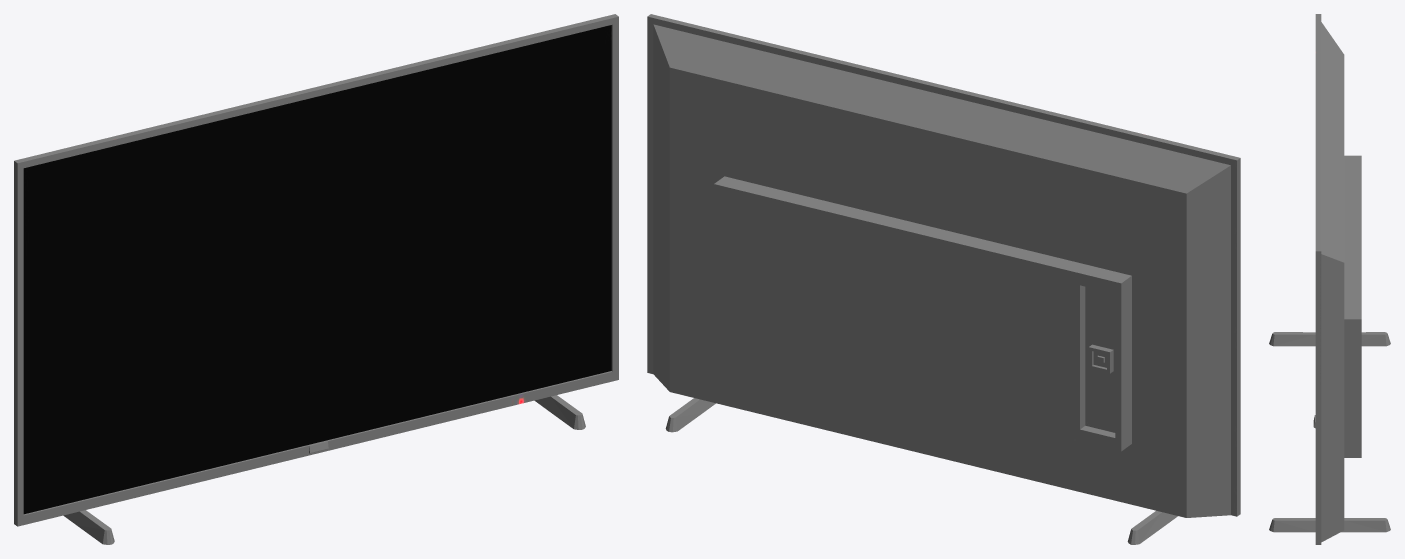
Rendered from television.glb.
3 renders of one model, left to right at view 1: azimuth 30°, elevation 25°; view 2: azimuth 150°, elevation 25°; view 3: azimuth 270°, elevation 25°, orthographic. The views are drawn at different scales.
Visible parts, largest first — view 1: defaultMaterial; view 2: defaultMaterial; view 3: defaultMaterial.
Boxes of the visible parts, x1=… form: defaultMaterial: x1=14, y1=14, x2=618, y2=544; defaultMaterial: x1=647, y1=14, x2=1240, y2=544; defaultMaterial: x1=1269, y1=14, x2=1390, y2=544.
Bounding box in the file's own units: 1.58 × 0.9435 × 0.3428.
1 material, 1 textured.
